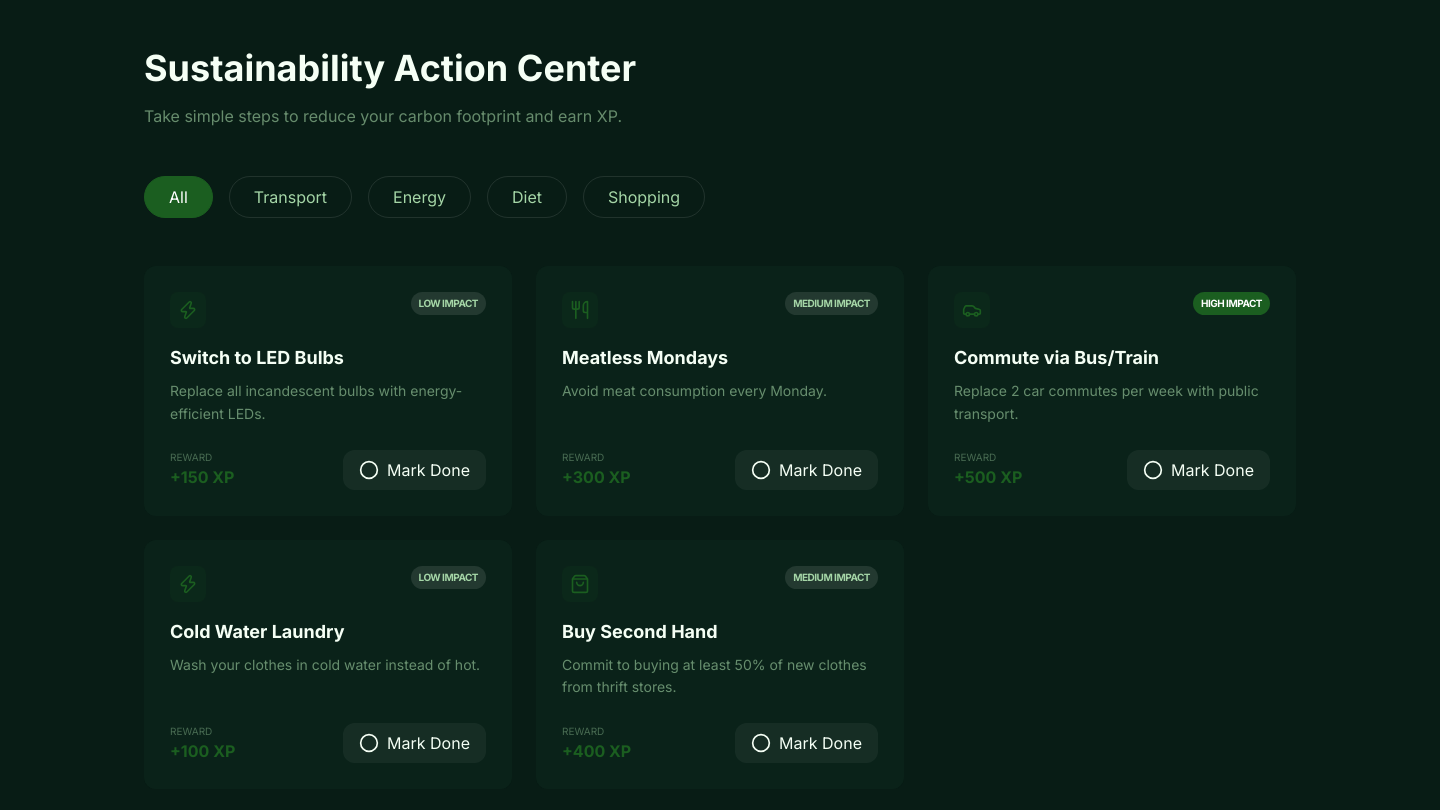
Action Center Component › renders actions and handles completion
This screenshot has width=1440, height=810.
Expected: the heading "Switch to LED Bulbs" is shown, 170,347 -> 344,368
What coordinates should you click on to do the following:
click the button "Mark Done" in the row of "150"
I would click on:
 (415, 470)
Its box is 343,450 -> 486,490.
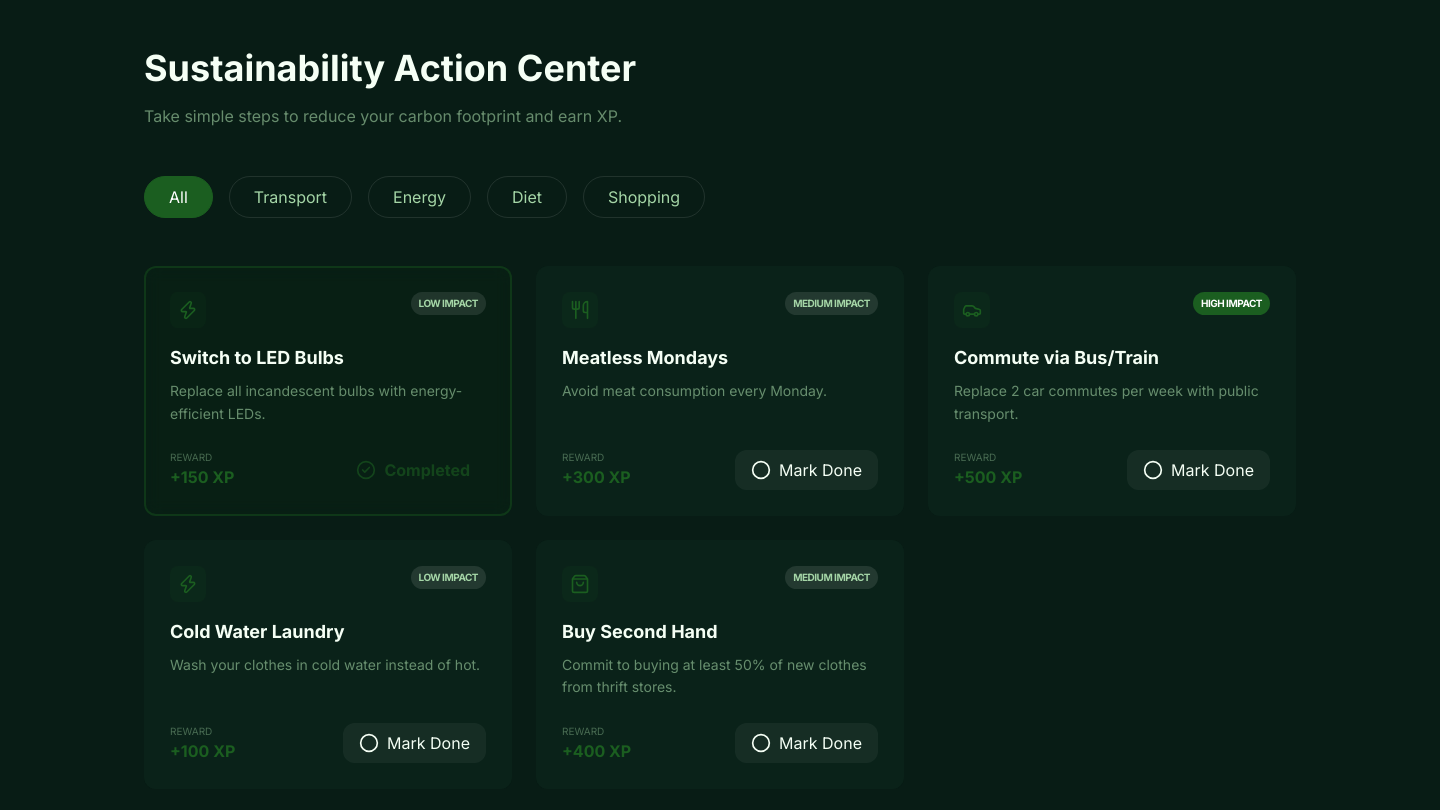
Result: the text "Completed" is shown at 384,458 -> 470,482
